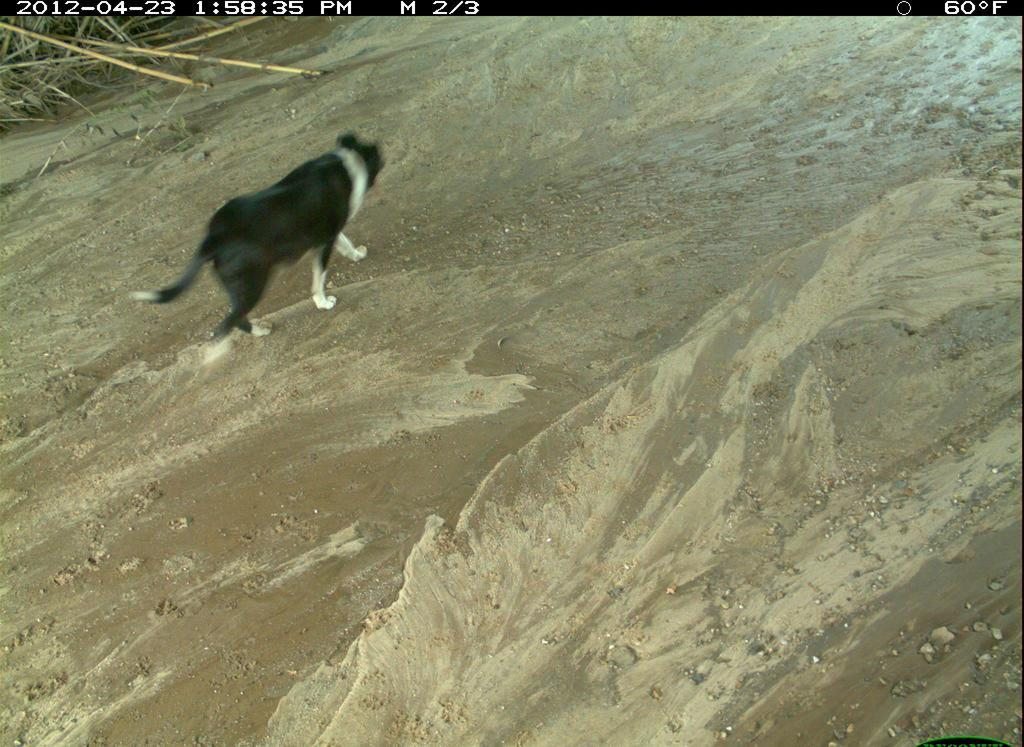dog: (254, 244, 789, 747)
